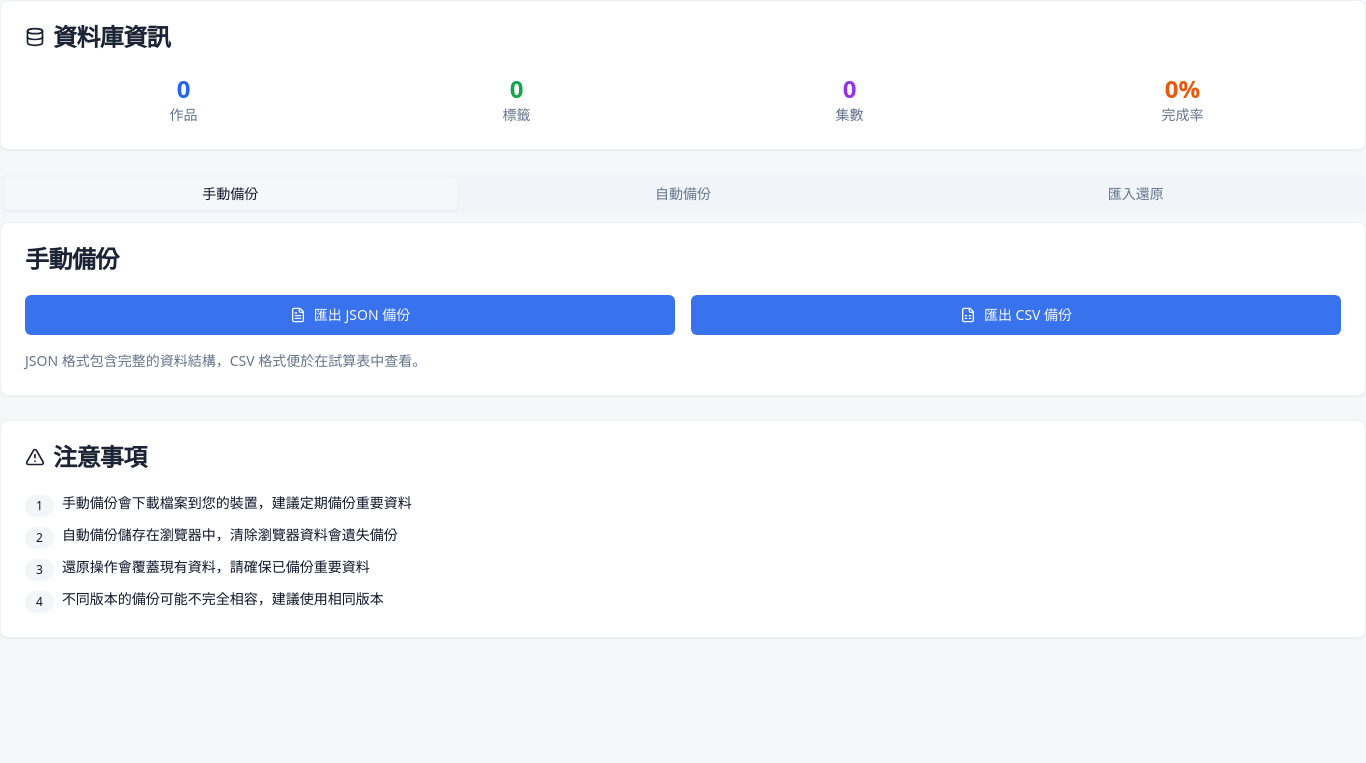
Test: BackupRestore component › runs auto backup flow and renders returned list
The width and height of the screenshot is (1366, 763).
What coordinates should you click on to do the following:
click the tab "自動備份"
I would click on:
 (683, 194)
Its box is x1=457 y1=178 x2=909 y2=210.
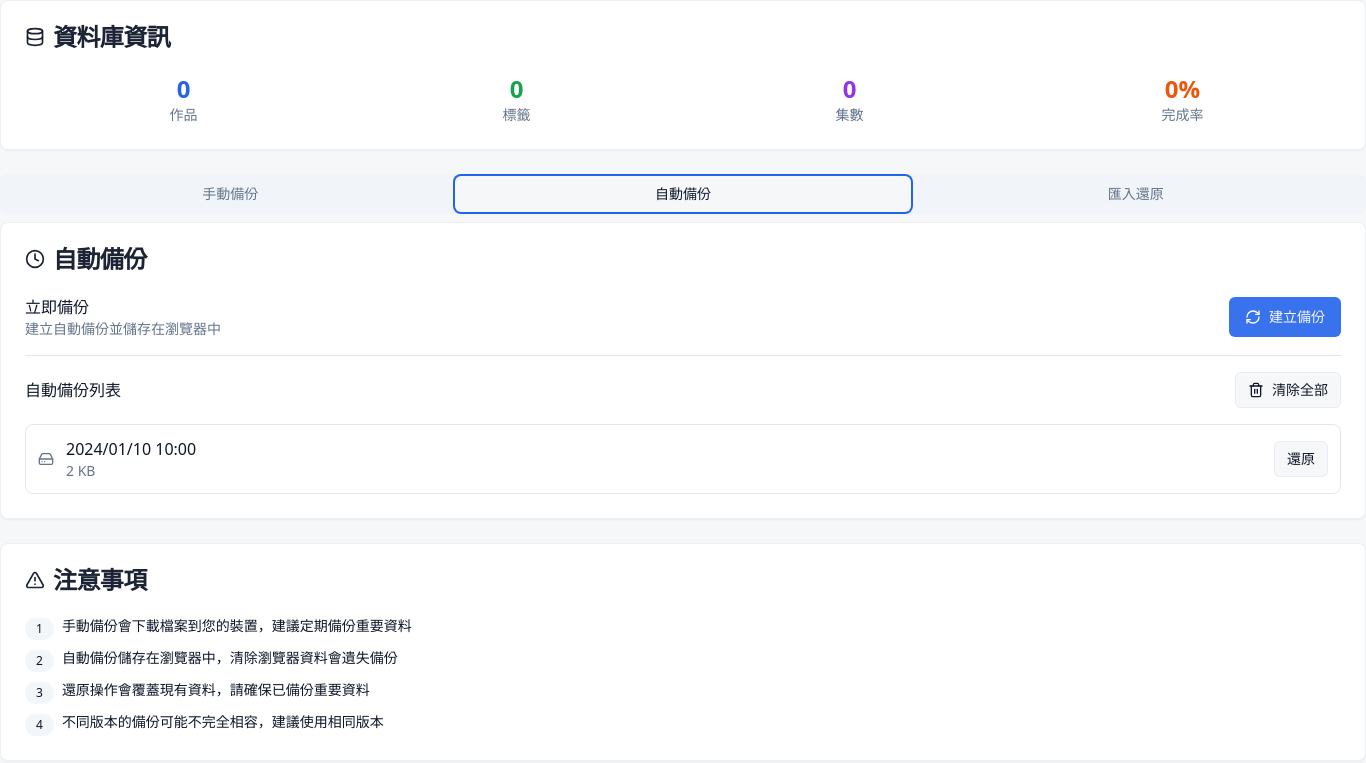
What coordinates should you click on to do the following:
click the button "建立備份"
I would click on:
 (1285, 317)
Its box is x1=1229 y1=297 x2=1341 y2=337.
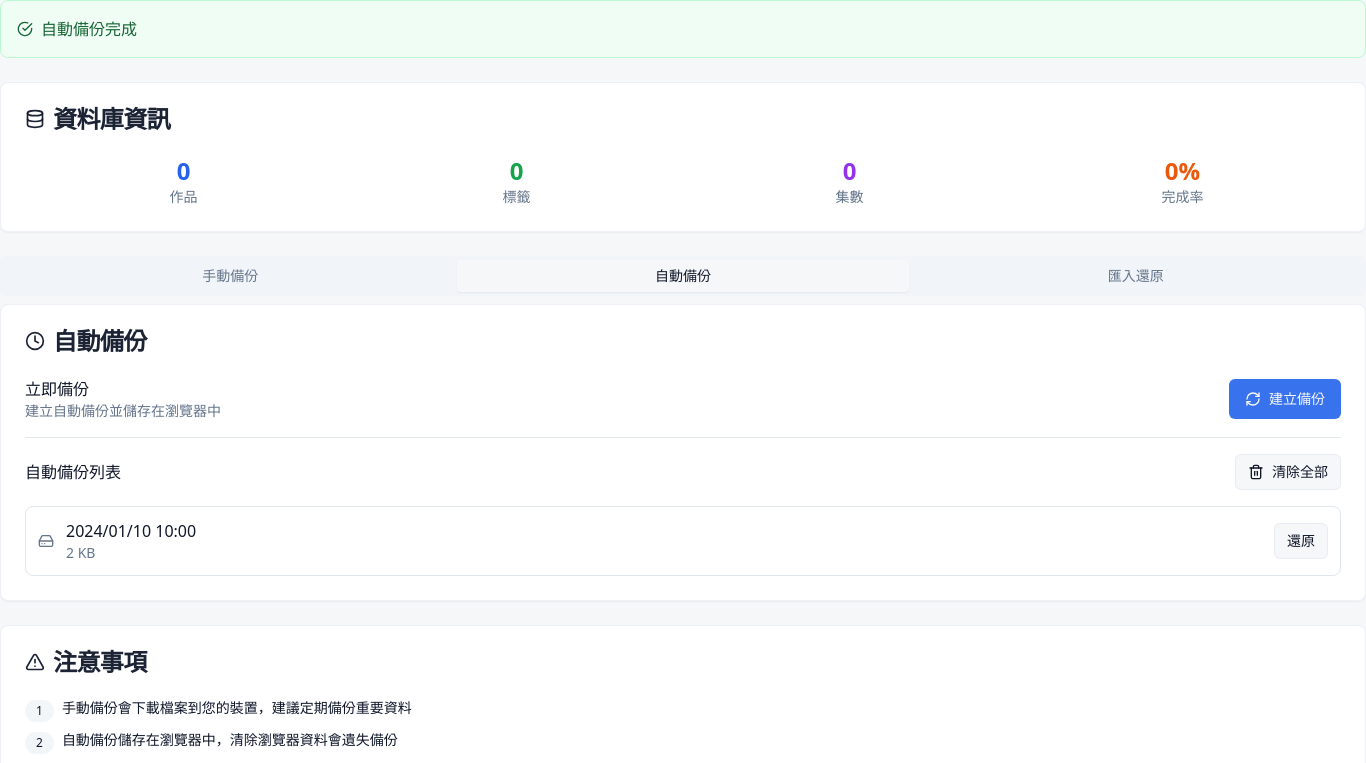
Expected: the text "2024/01/10 10:00" is shown, x1=66 y1=519 x2=196 y2=543
Expected: the text "自動備份完成" is shown, x1=41 y1=17 x2=137 y2=41
